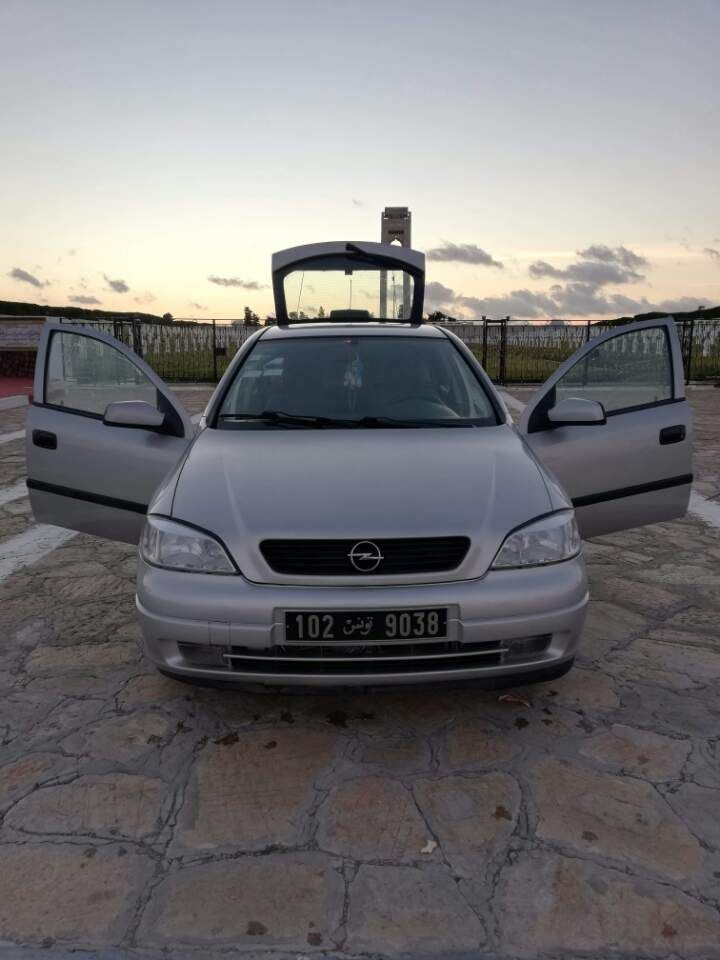LP: (283, 609, 448, 641)
